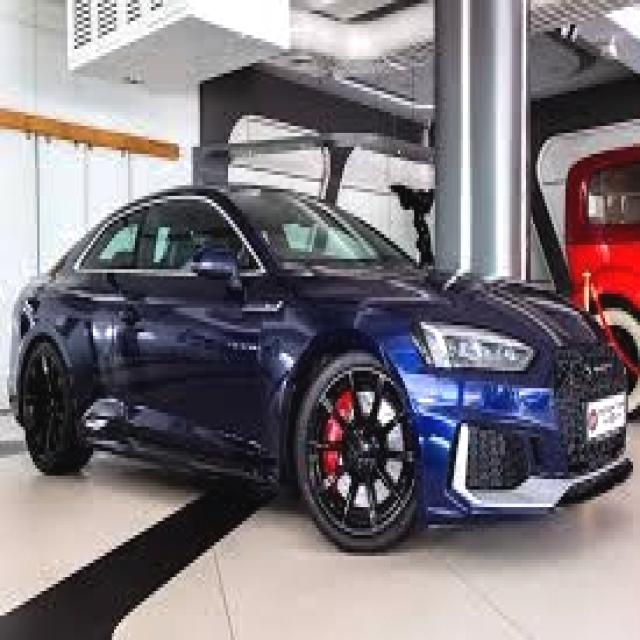blue: (10, 183, 635, 523)
